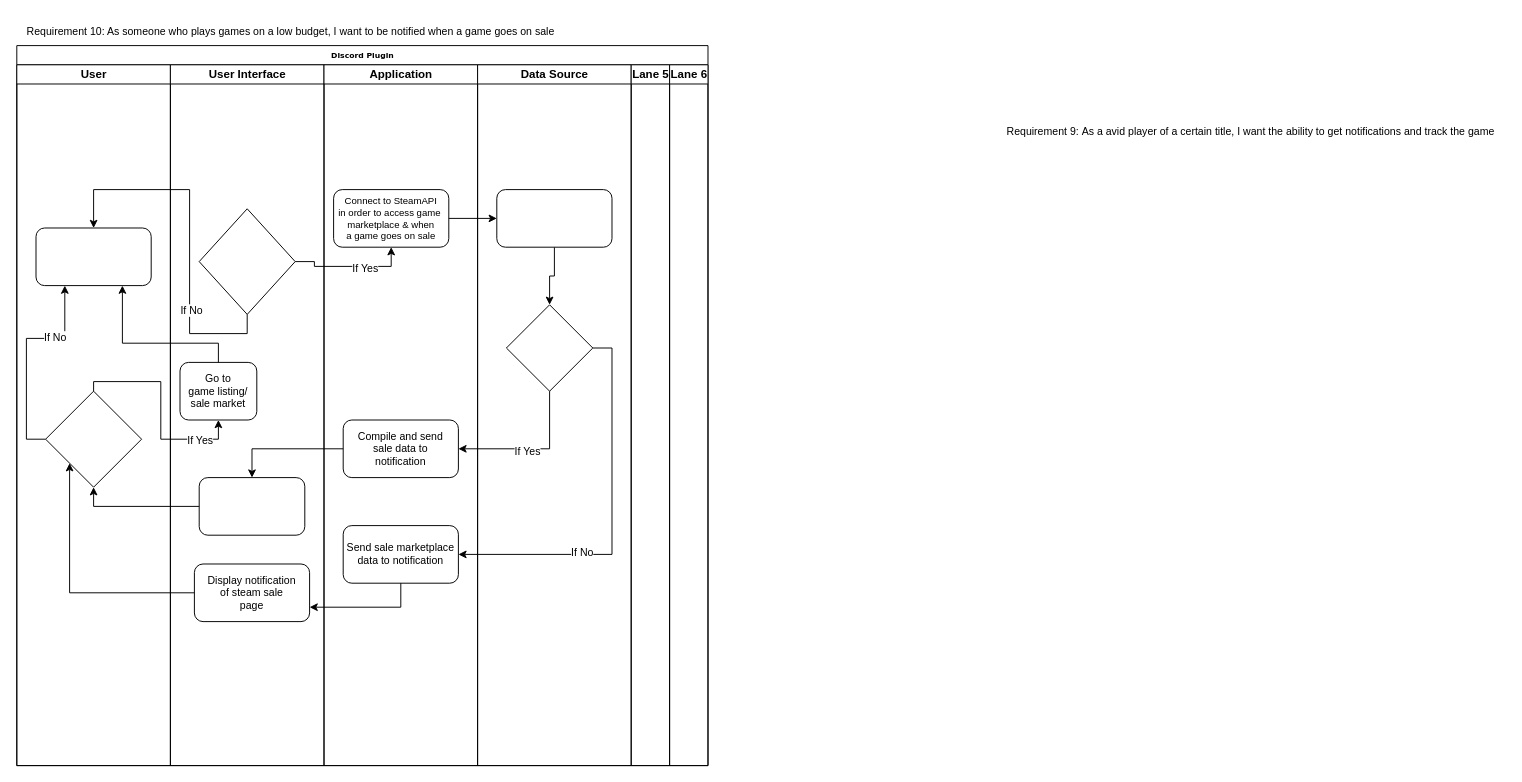
The diagram is 1522 pixels wide and 782 high, and some of its shapes have lost their labels. Here are the shapes that lost their labels. From the top down, the centre of each, then its label:
(554,218): Gather data from sale selection in marketplace and new sale releases
(93,256): Finish
(246,261): User has enabled notifications for sales
(549,347): Has a new game sale begun?
(93,438): Did user click on listing?
(251,506): Display notification of sale
